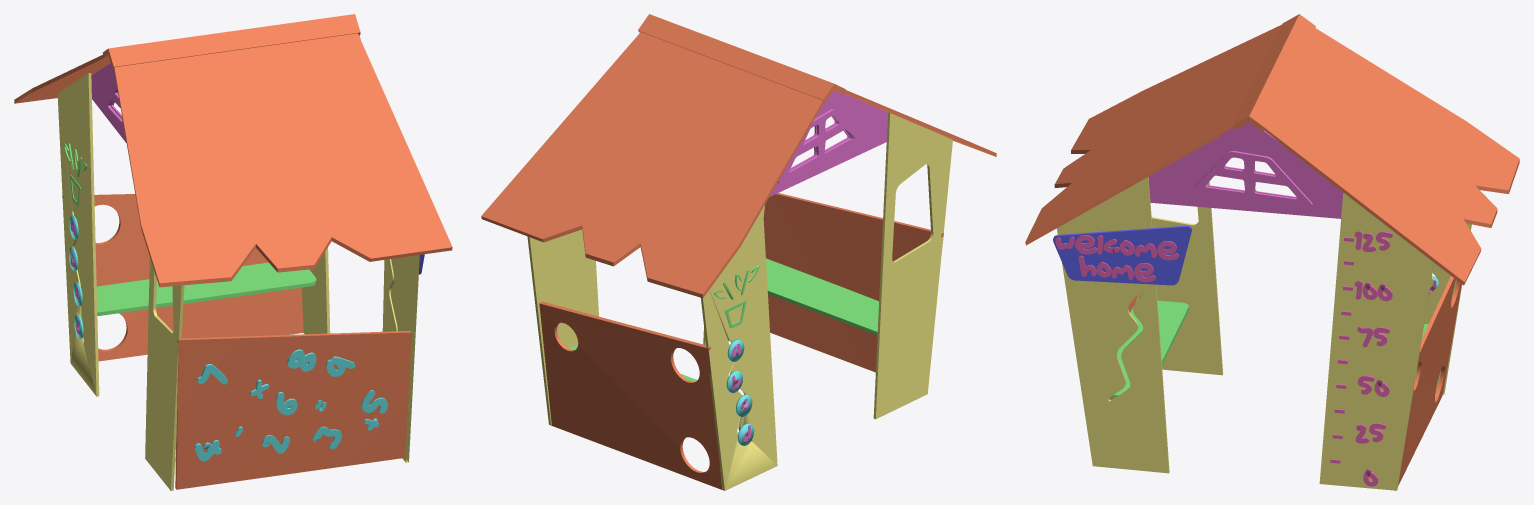
Rendered from casetta_LODs.fbx.
The picture shows the model from 3 angles, left to right: view 1: azimuth 30°, elevation 25°; view 2: azimuth 150°, elevation 25°; view 3: azimuth 270°, elevation 25°; orthographic projection. The views are drawn at different scales.
Parts seen in each view (by area): view 1: casetta_LOD0; view 2: casetta_LOD0; view 3: casetta_LOD0.
Boxes of the visible parts, <box> form: casetta_LOD0: <box>14,14,452,490</box>; casetta_LOD0: <box>481,14,996,490</box>; casetta_LOD0: <box>1025,14,1519,490</box>.
Size of what is drawn, in the model's own units: 727 by 774 by 955.
